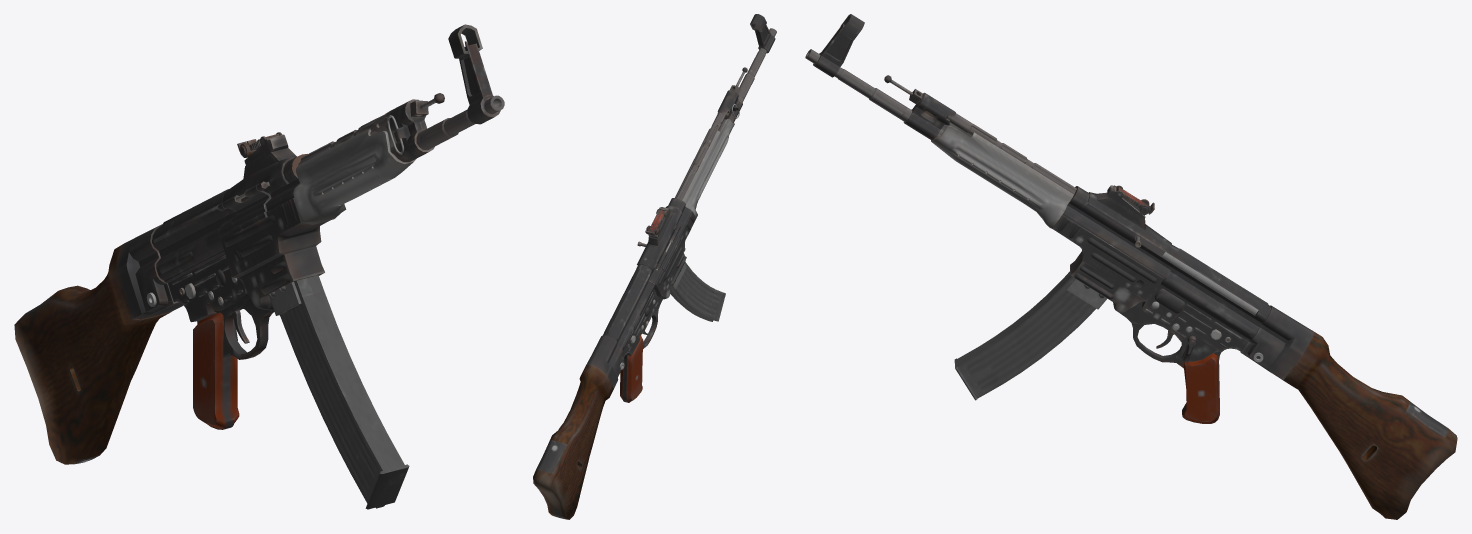
File: stg44.glb
3 views of the same model, side by side, from view 1: azimuth 30°, elevation 25°; view 2: azimuth 150°, elevation 25°; view 3: azimuth 270°, elevation 25° (orthographic). The views are drawn at different scales.
Parts seen in each view (by area): view 1: w_r.003; view 2: w_r.003; view 3: w_r.003.
Boxes of the visible parts, x1,y1,x2,y2 form: w_r.003: [14, 24, 504, 509]; w_r.003: [533, 14, 776, 519]; w_r.003: [805, 14, 1457, 519].
Size of the model in its own units: 0.058 by 0.7031 by 0.8315.
2 materials, 2 textured.
